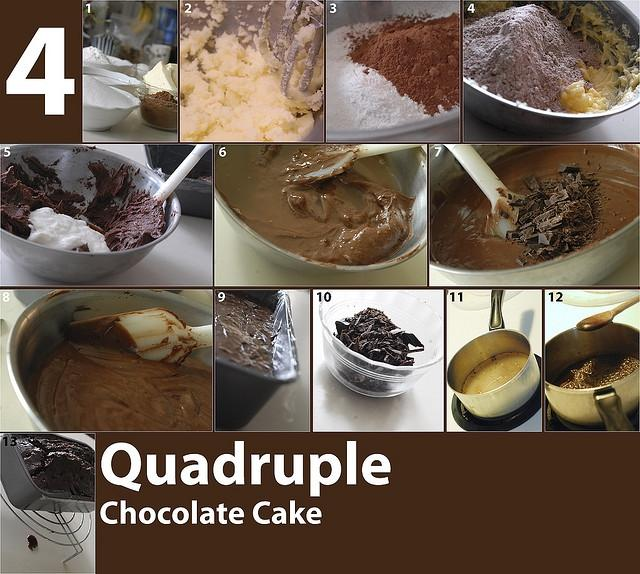banana: (130, 3, 144, 28)
